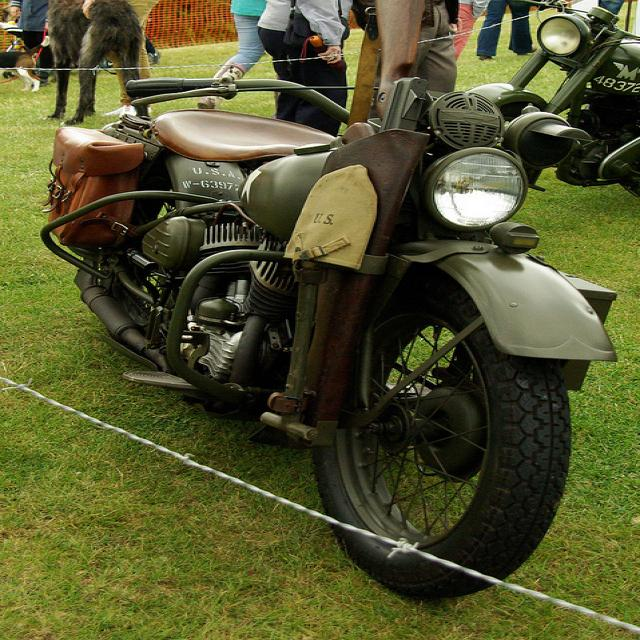motor: (40, 14, 640, 569), (564, 40, 640, 136)
